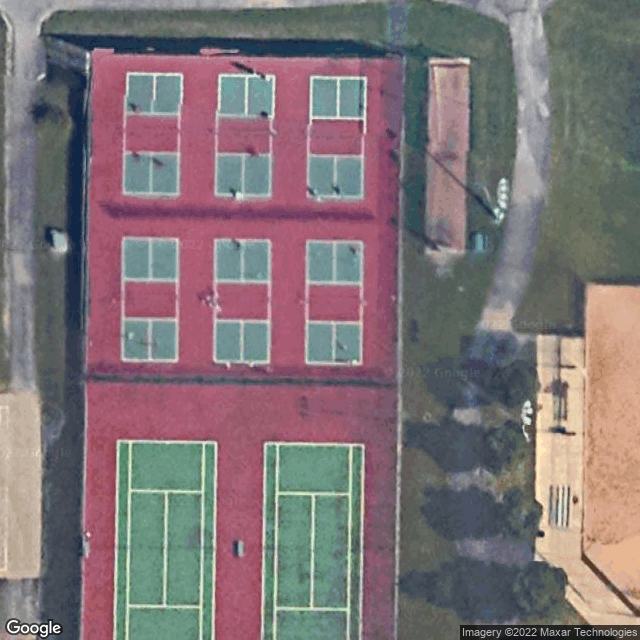Court: (111, 439, 217, 639), (259, 440, 365, 640)
